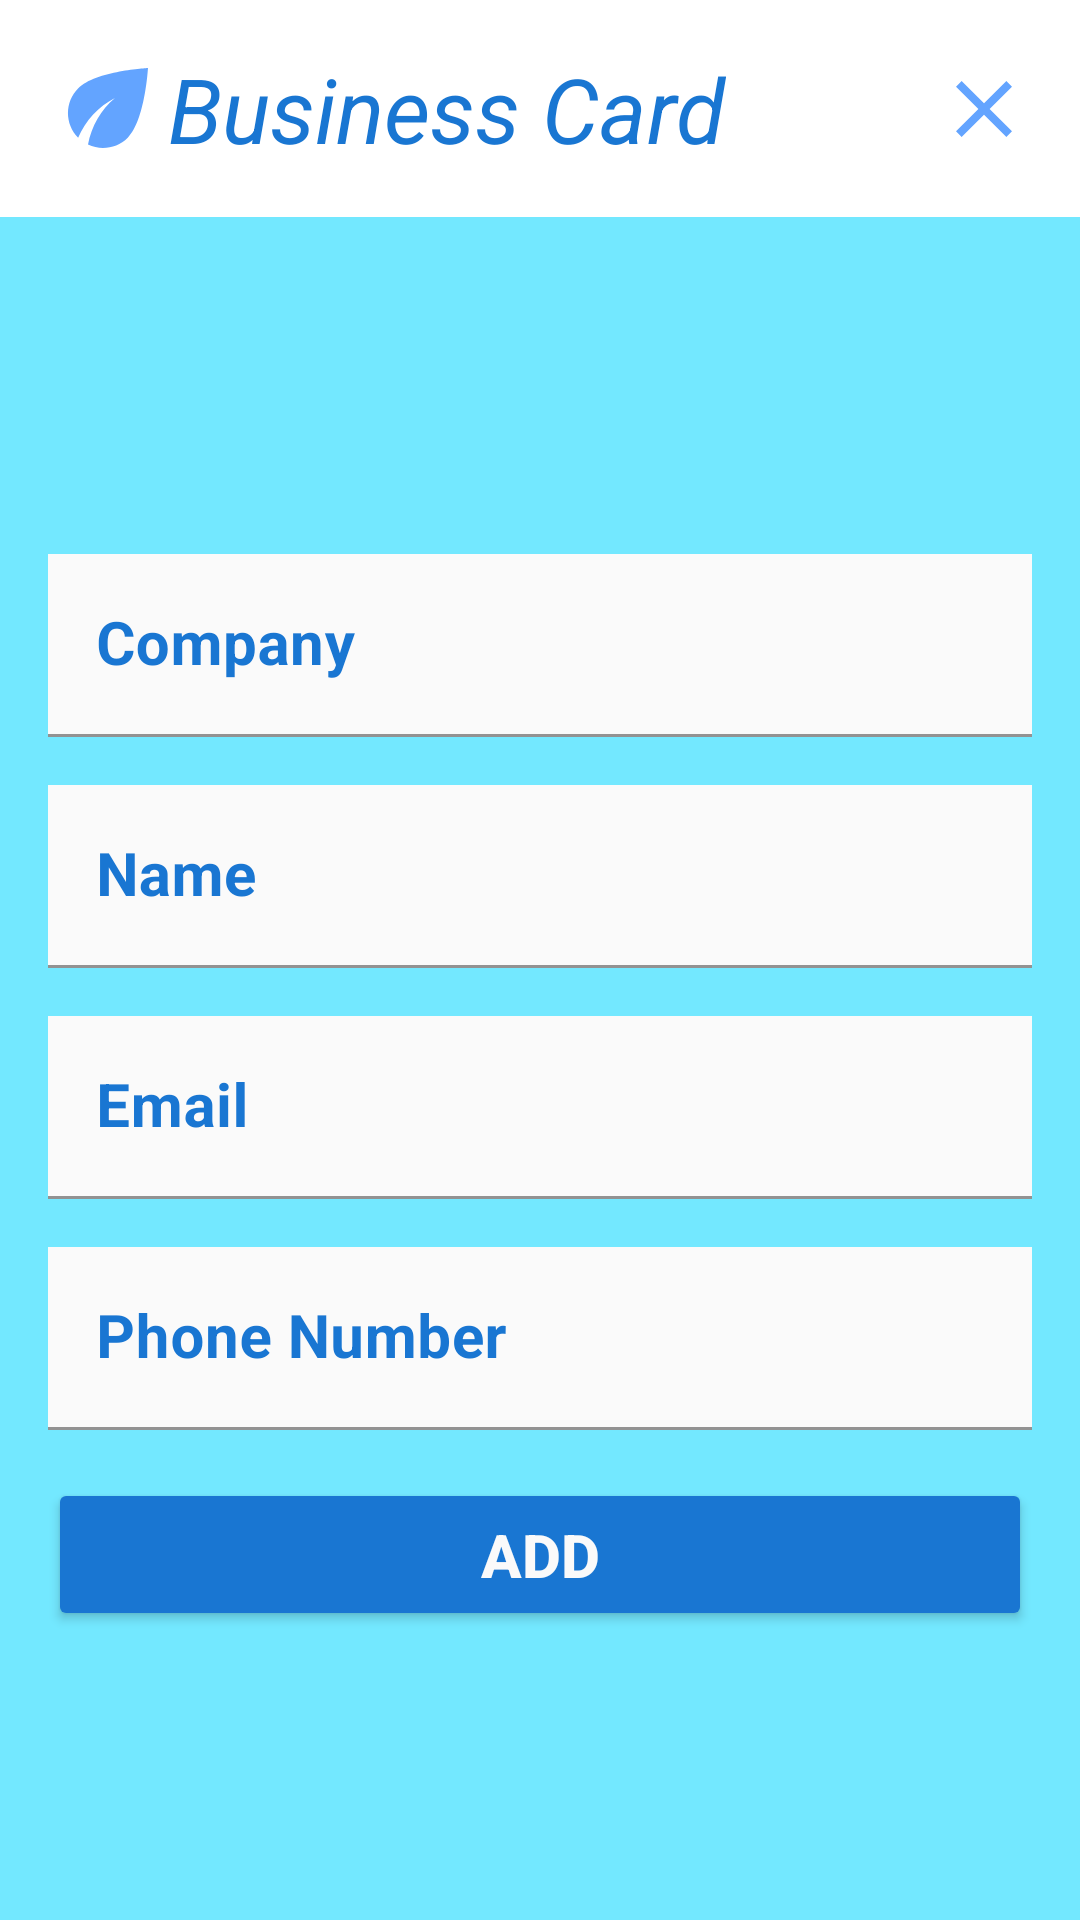

Named icons in this screenshot (1080×1920) and their bounding boxes, (x1, y1, x2, y2):
Close Image: (956, 81, 1012, 137)
